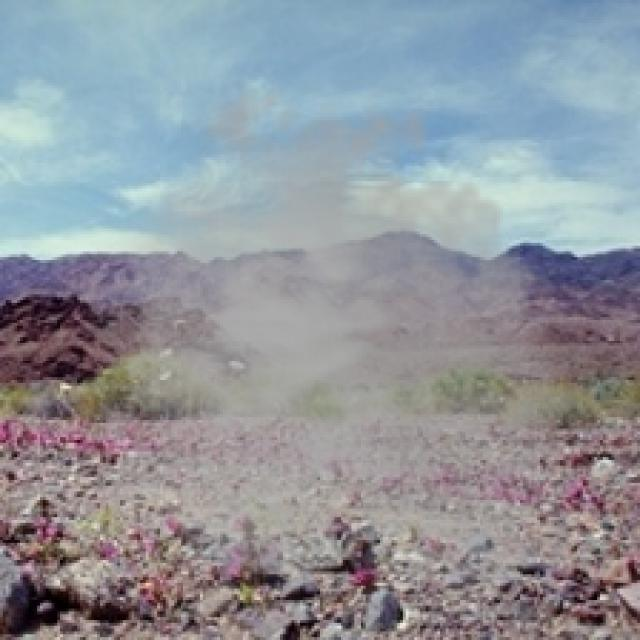smoke: (57, 71, 603, 614)
